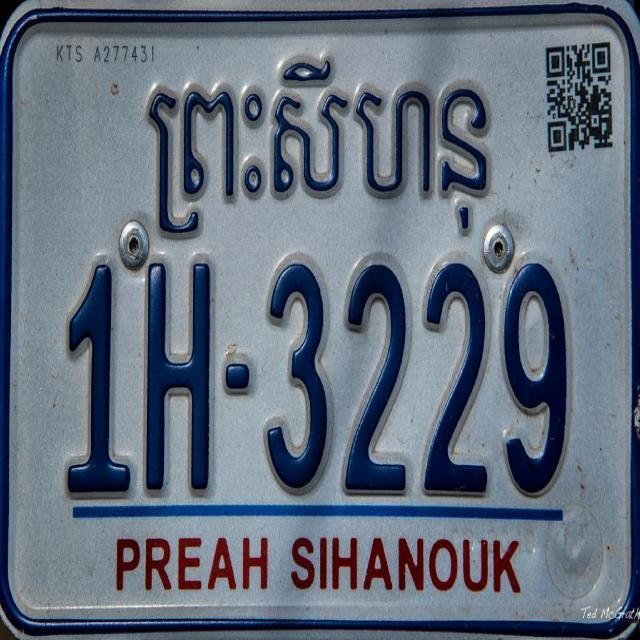Preah_Sihanouk: (147, 46, 502, 242)
